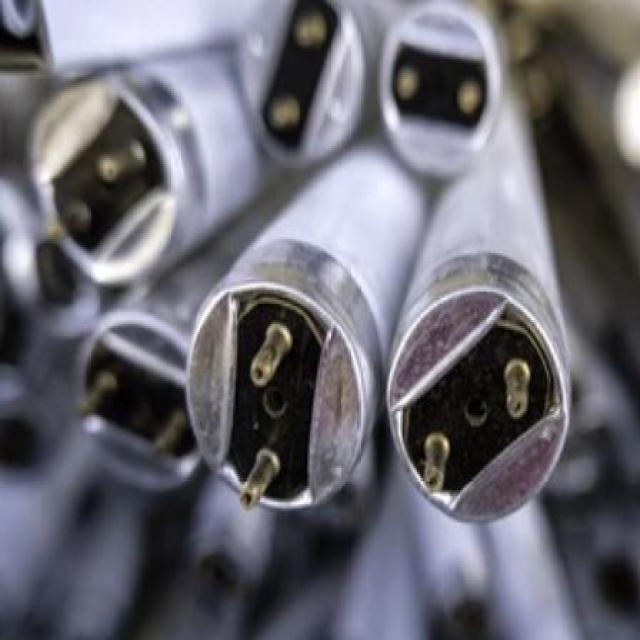electronic: (0, 0, 639, 638), (183, 140, 428, 512), (384, 152, 572, 524), (610, 37, 639, 174)
